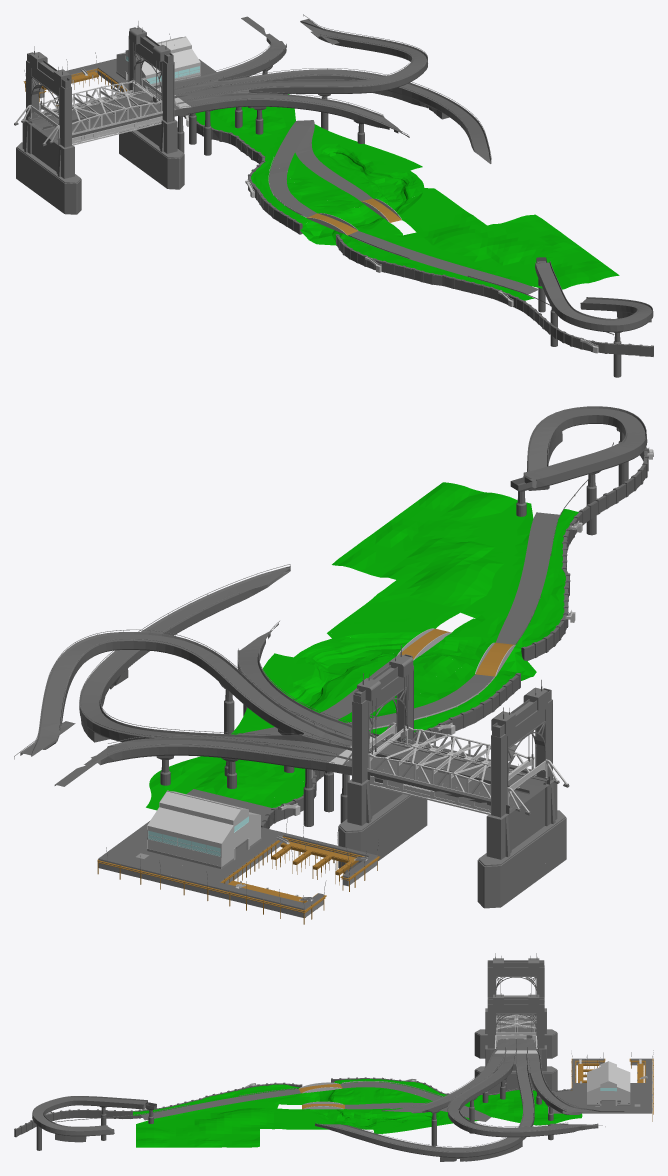
The model's file is bronx_w2_1.FBX.
3 renders of one model, top to bottom at view 1: azimuth 30°, elevation 25°; view 2: azimuth 150°, elevation 25°; view 3: azimuth 270°, elevation 25°, orthographic. The views are drawn at different scales.
Visible parts, largest first — view 1: unnamed, null; view 2: unnamed, null; view 3: unnamed, null.
Boxes of the visible parts, <box> form: unnamed: <box>14,14,653,377</box>; null: <box>24,37,198,93</box>; unnamed: <box>14,406,653,924</box>; null: <box>121,791,369,918</box>; unnamed: <box>14,953,653,1161</box>; null: <box>572,1057,653,1094</box>.
Bounding box in the file's own units: 263 × 96.93 × 525.
